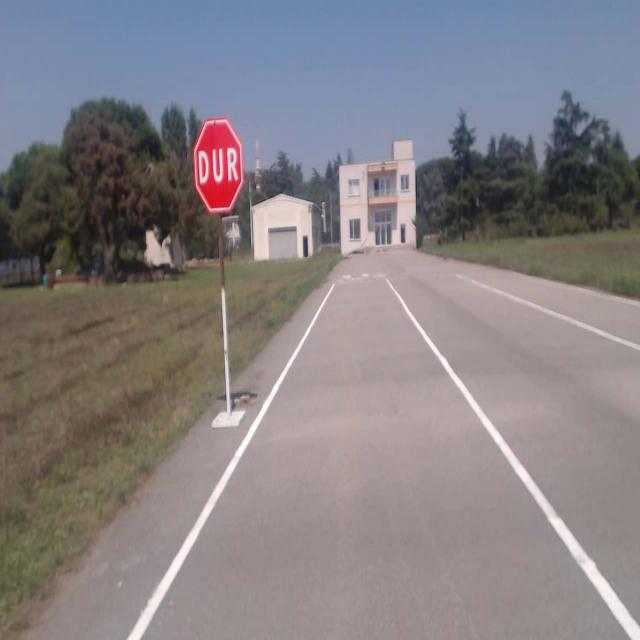dur: (192, 116, 244, 212)
